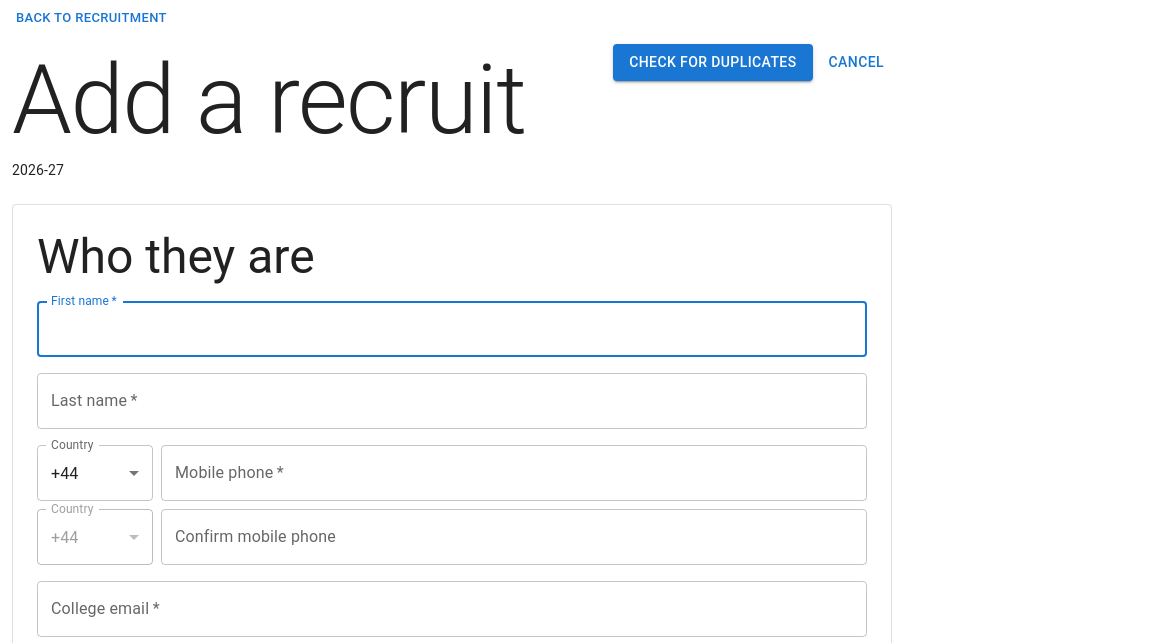
it: V-1, correction round 2 — inline phone and email validation › shows an inline error and disables Check for duplicates the moment a malformed number is typed — never only after pressing it
Type "93939" into the field labelled "Mobile phone *" at coordinates (514, 473), box [161, 445, 867, 501]
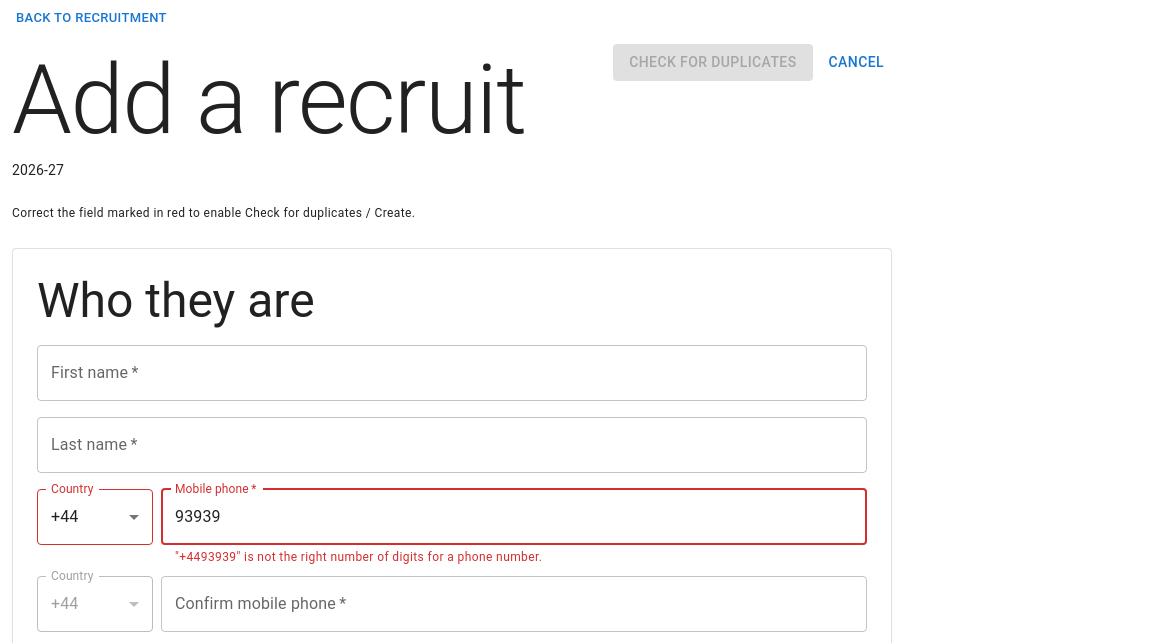
Now the button with test id "add-recruit-check" is disabled, box [613, 44, 812, 80]
